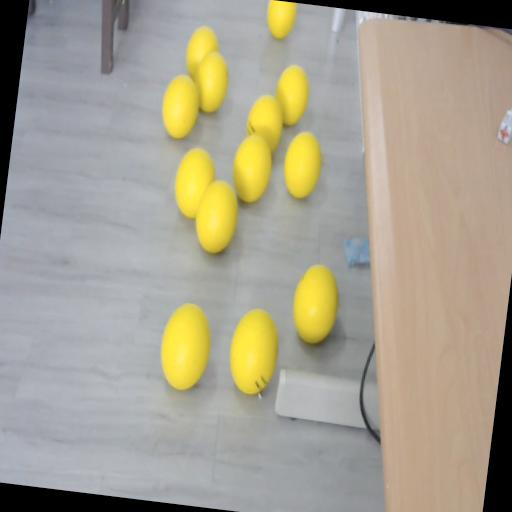FUEL: (155, 299, 216, 392), (224, 304, 284, 397), (288, 261, 342, 345), (190, 175, 243, 257), (228, 131, 276, 205), (280, 128, 325, 200), (158, 72, 203, 140), (272, 62, 312, 127), (183, 24, 221, 82), (264, 0, 298, 41)
